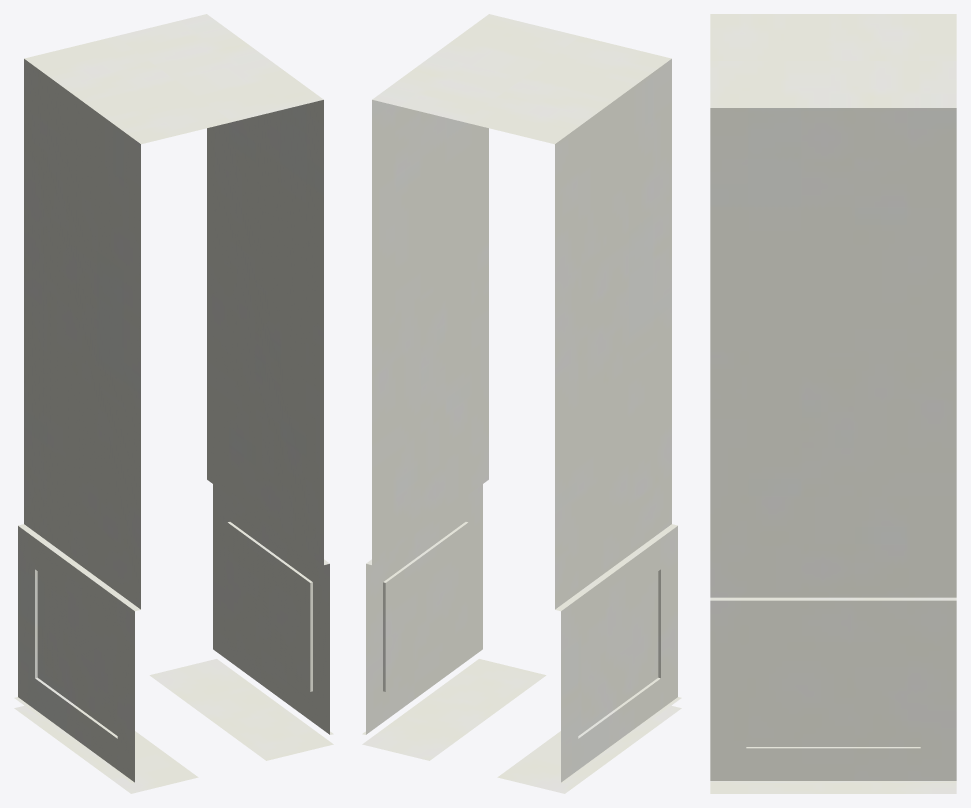
The model's file is Wall open.fbx.
3 views of the same model, side by side, from view 1: azimuth 30°, elevation 25°; view 2: azimuth 150°, elevation 25°; view 3: azimuth 270°, elevation 25° (orthographic). The views are drawn at different scales.
Parts seen in each view (by area): view 1: Wall open; view 2: Wall open; view 3: Wall open.
Part boxes in pixels (<box>): Wall open: <box>14,14,333,793</box>; Wall open: <box>362,14,681,793</box>; Wall open: <box>710,14,956,793</box>.
Size of the model in its own units: 1 by 3.05 by 1.
Materials: 1 (1 with a texture image).
